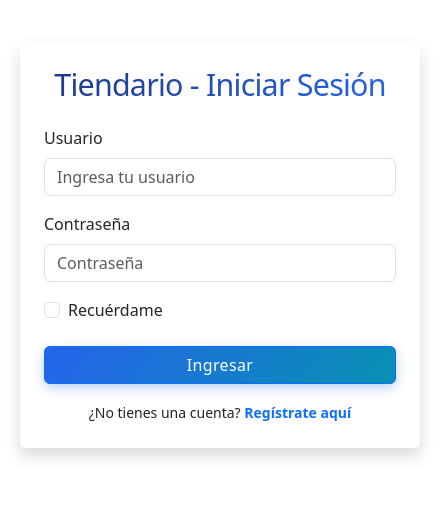
Scenario: LoginPage › should display error message on login failure
Step 1. Type "testuser" into the field labelled "Usuario" → coordinates (220, 177), box [44, 158, 396, 196]
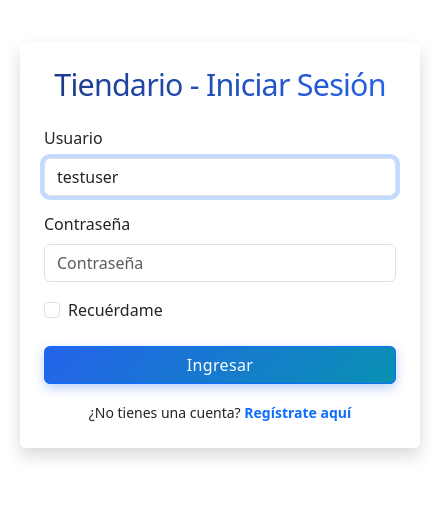
Step 2. Type "wrongpassword" into the password field labelled "Contraseña" → coordinates (220, 263), box [44, 244, 396, 282]
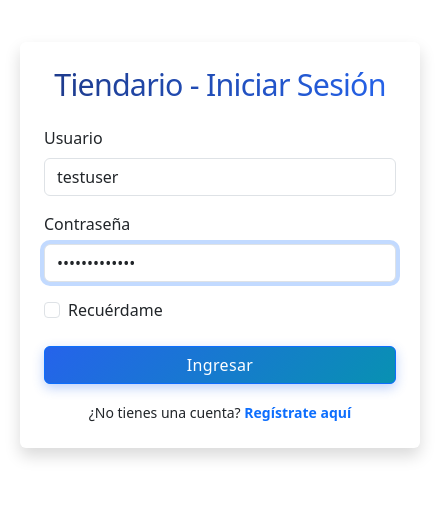
Step 3. Click the button "Ingresar" → coordinates (220, 365), box [44, 346, 396, 384]
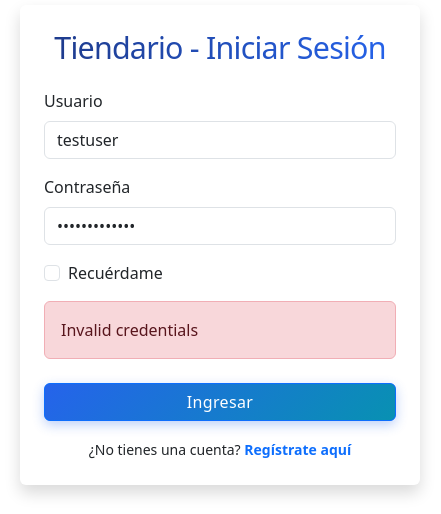
Result: the text "Invalid credentials" is shown at [44, 301, 396, 359]
